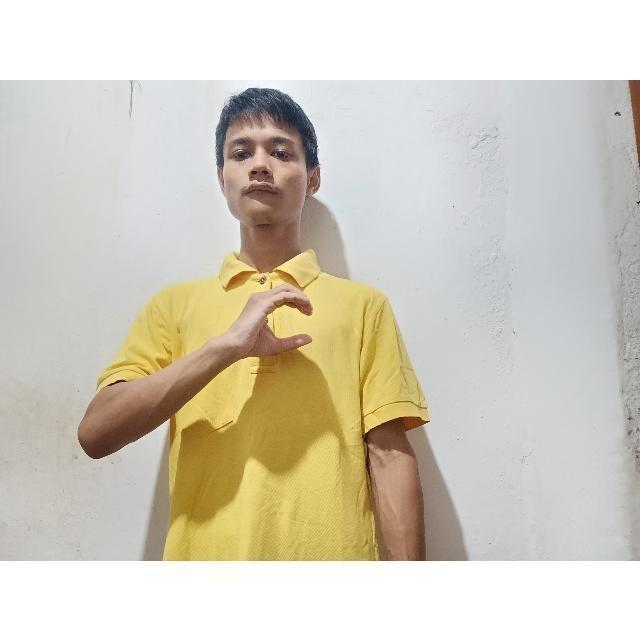C: (228, 279, 334, 361)
